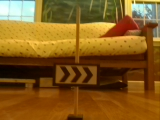right: (54, 64, 100, 86)
